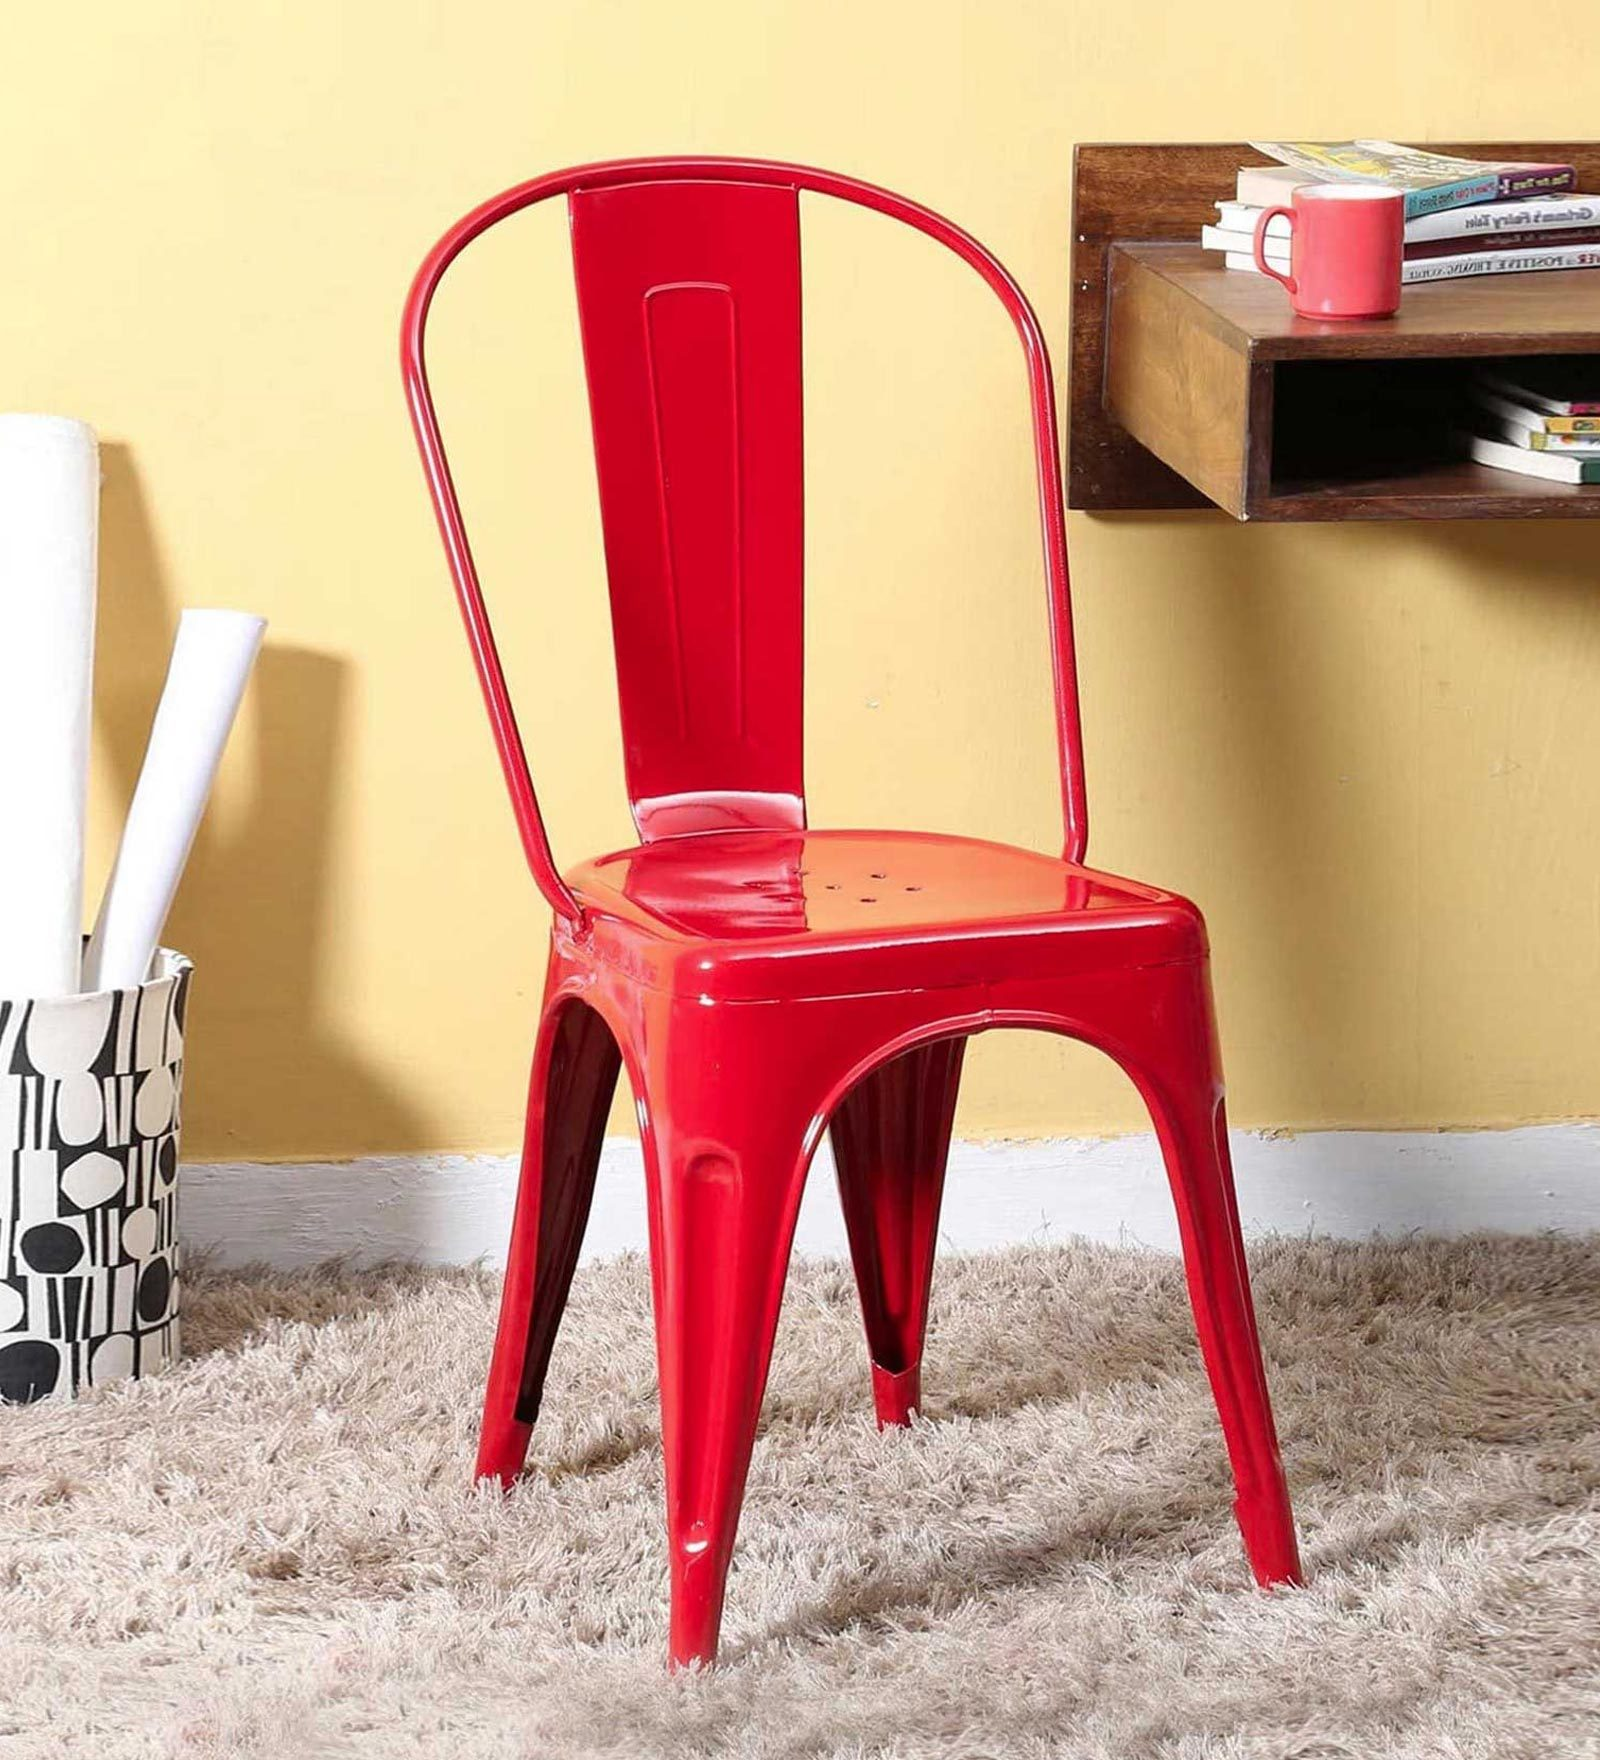Ekati Metal Chair in Red Color by Bohemiana: (379, 143, 1358, 1674)
